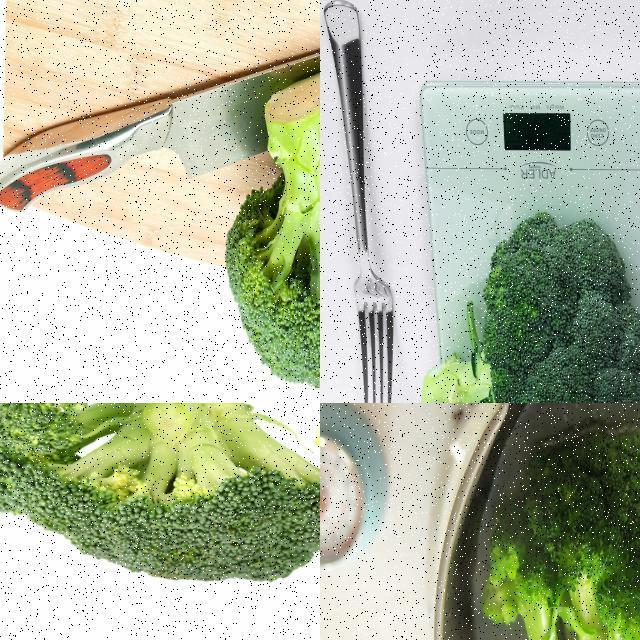broccoli: (0, 403, 319, 583), (419, 205, 639, 402), (484, 423, 639, 639), (224, 60, 319, 402), (0, 403, 139, 447)
